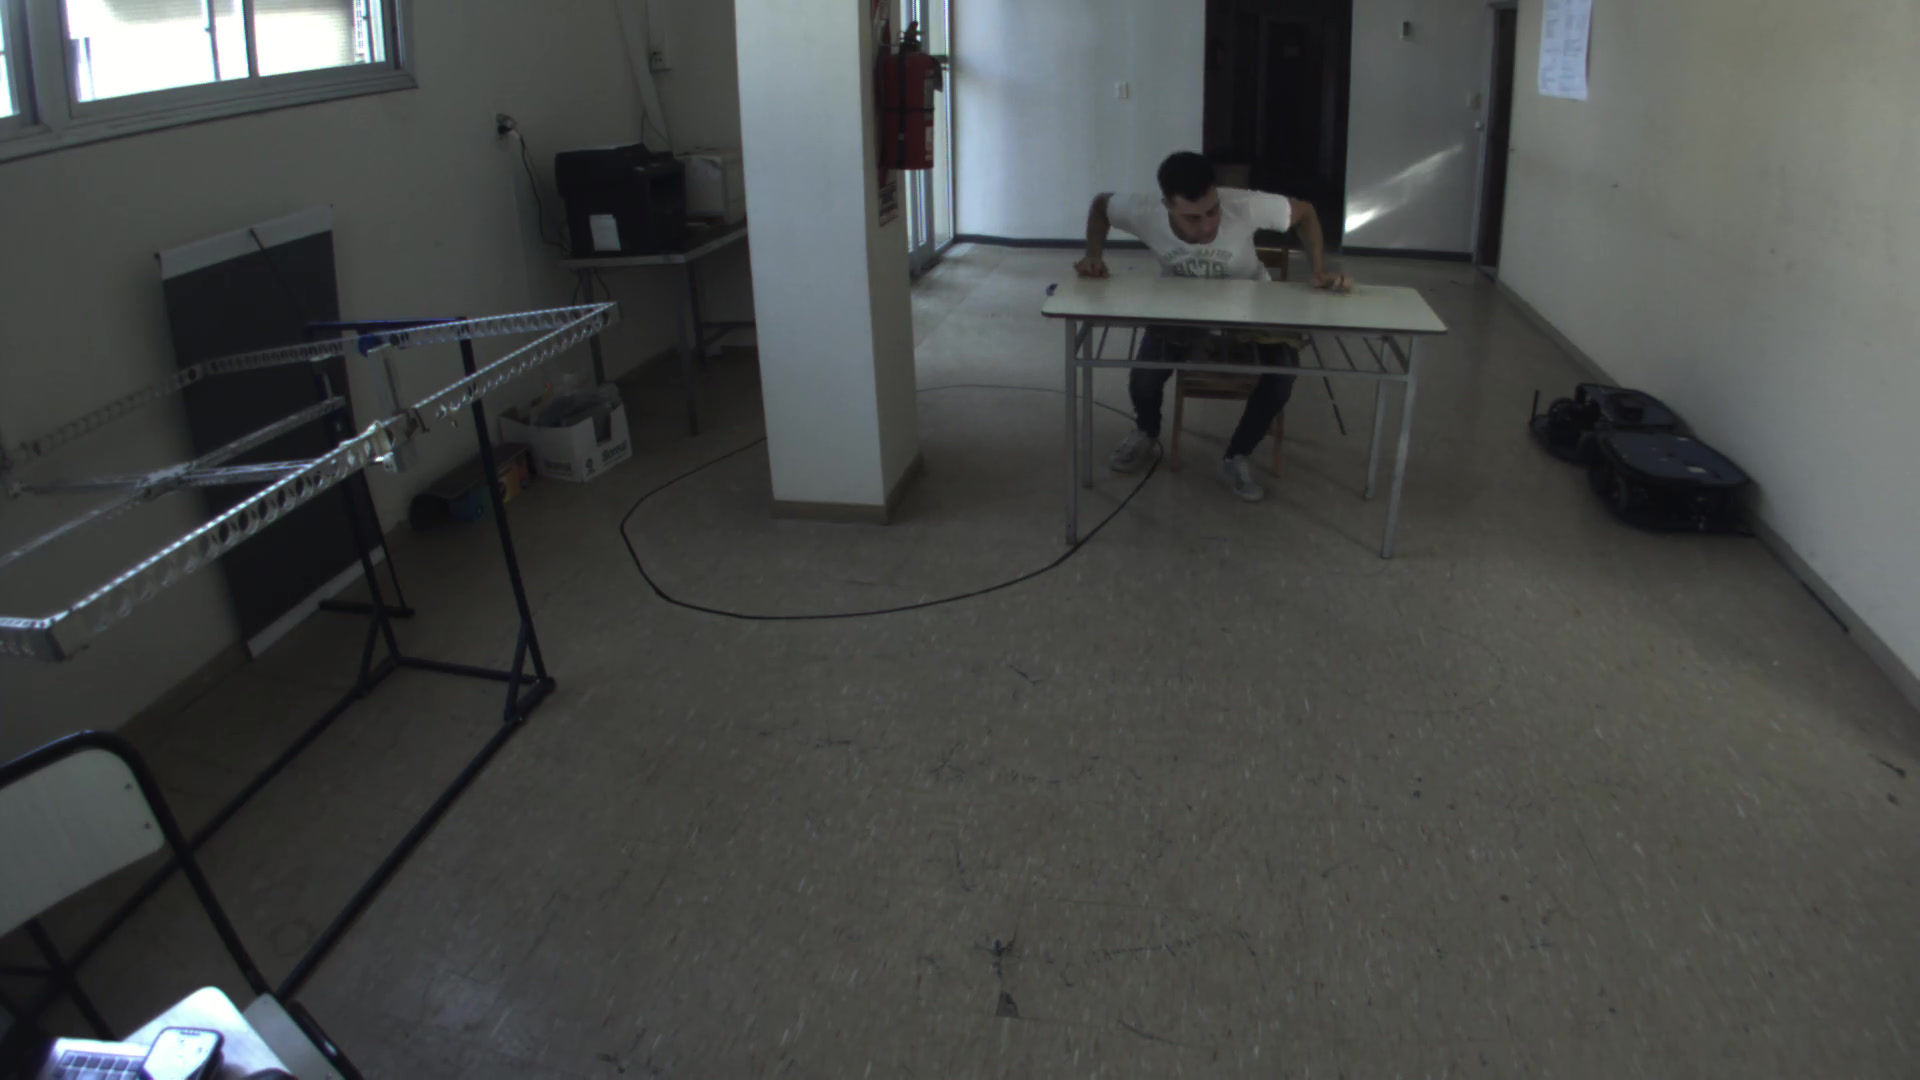hand: (1302, 247, 1371, 299), (1063, 249, 1116, 289)
